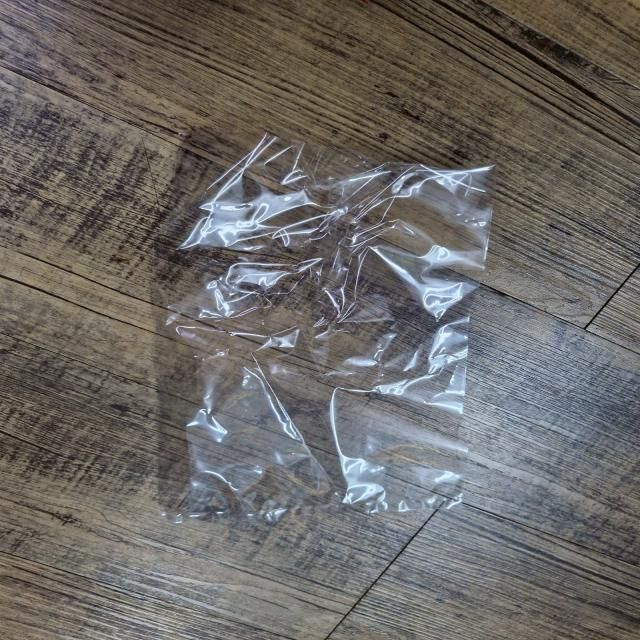plastic bag: (121, 111, 493, 527)
